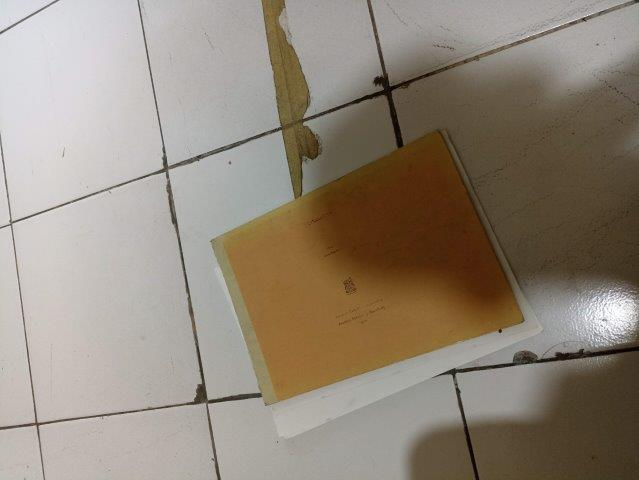kertas: (213, 129, 544, 437)
